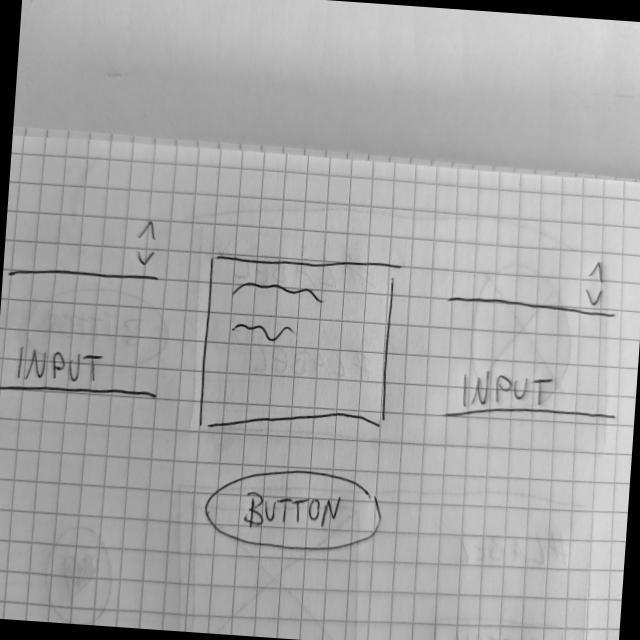button: (201, 462, 389, 557)
input: (442, 359, 623, 433), (1, 337, 165, 409)
number-input: (442, 243, 624, 322), (3, 207, 165, 292)
textarea: (197, 248, 401, 445)
